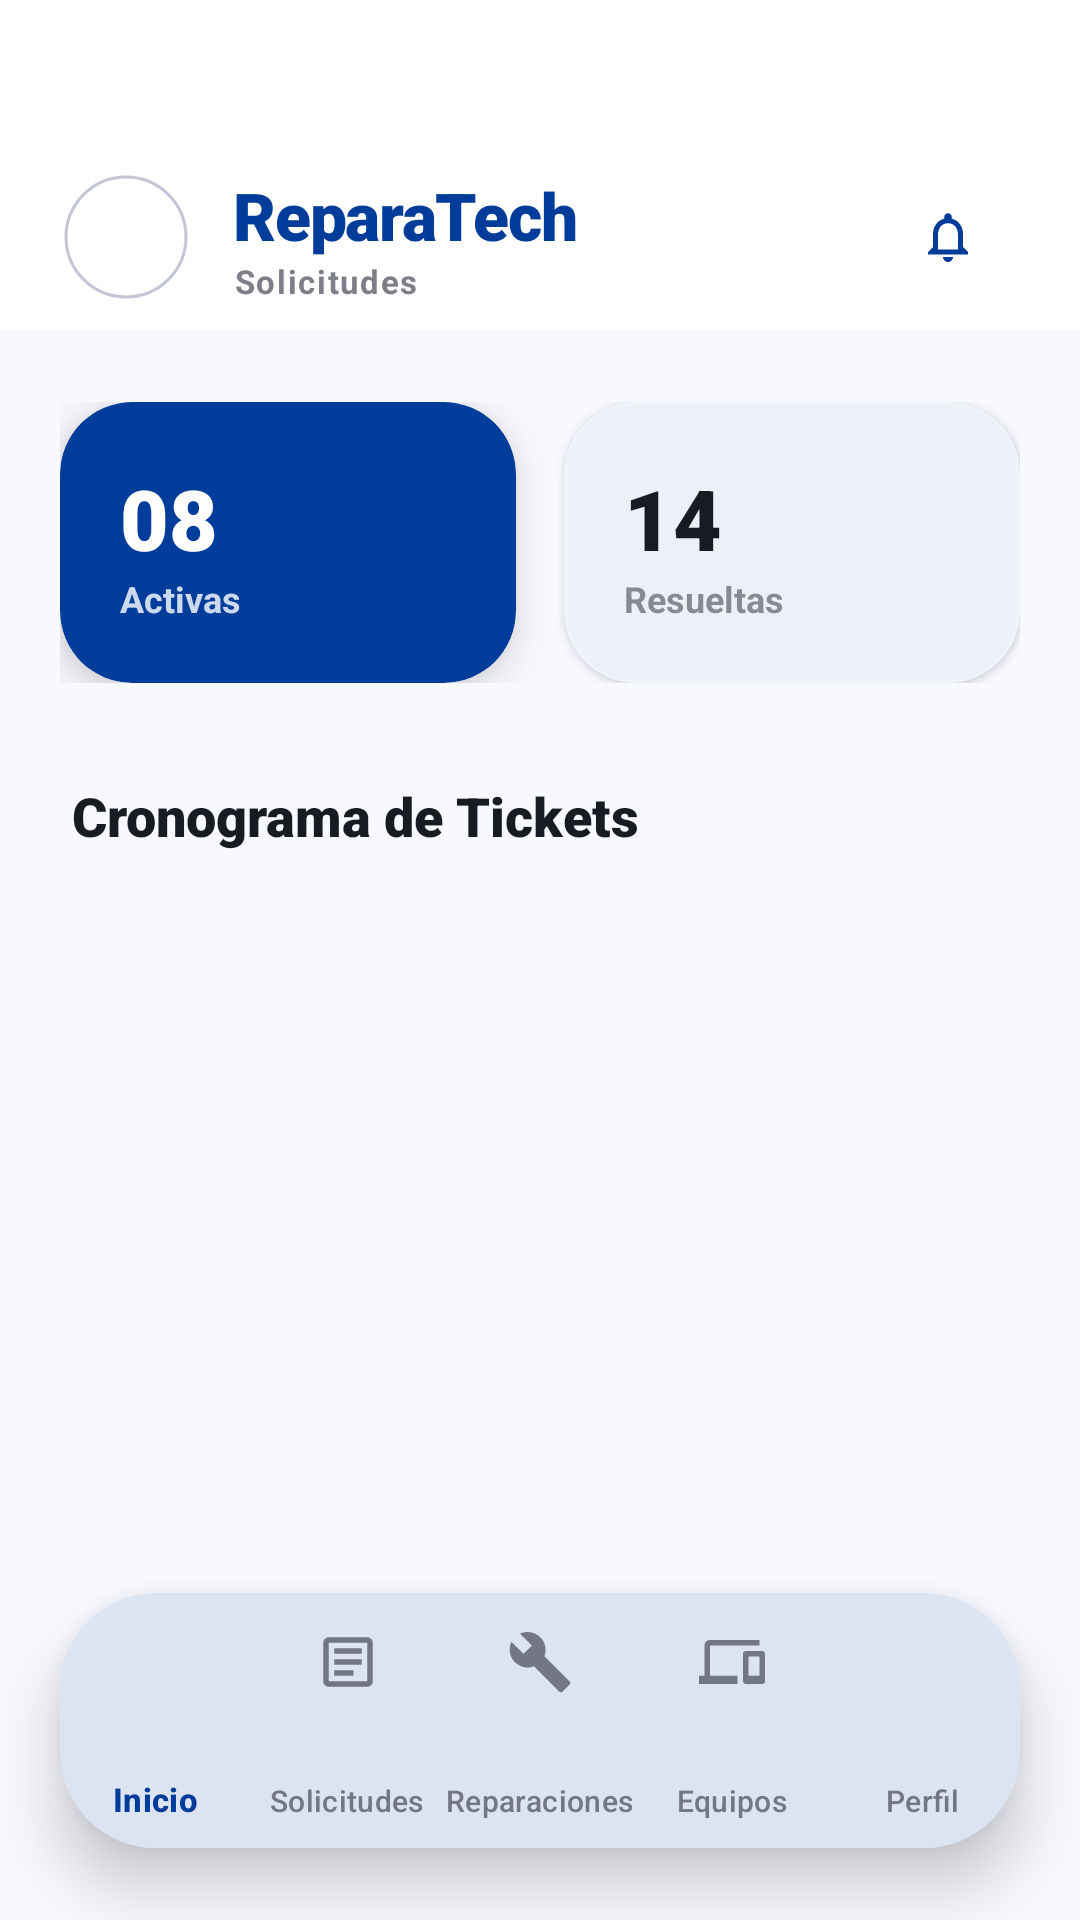

Icons on this 1080×1920 Android screen, each with the point to tap as [x,y]:
notifications none: [948,237]
